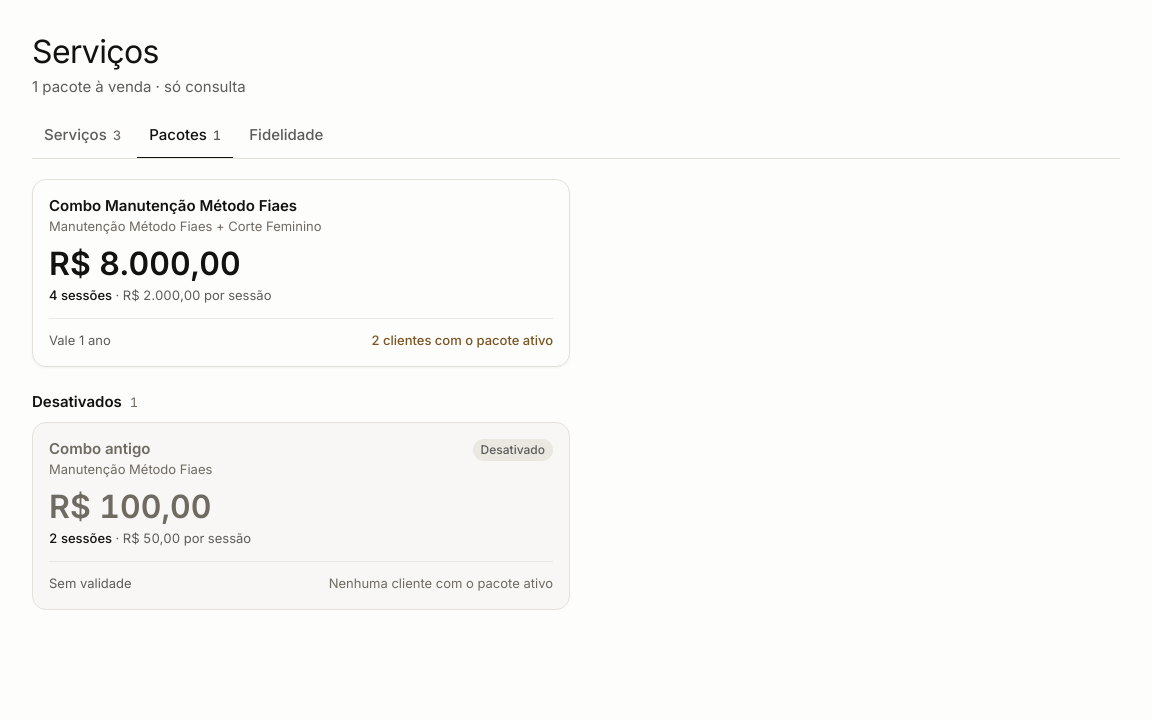
Serviços · Pacotes · Fidelidade (uma tela só) › atendente consulta o pacote sem campos
What coordinates should you click on to do the following:
click the button "Combo Manutenção Método Fiaes"
I would click on:
 (173, 206)
Its box is [49,196,297,216].
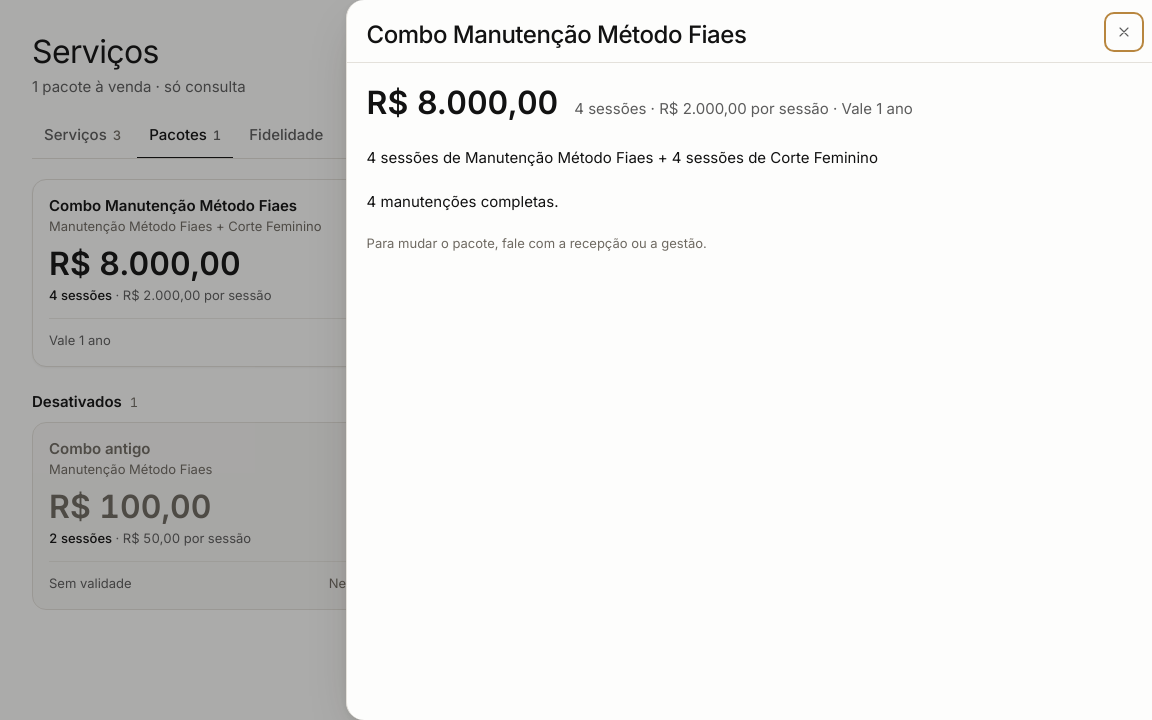
Result: the text "4 manutenções completas." is shown at [367,192,558,210]
